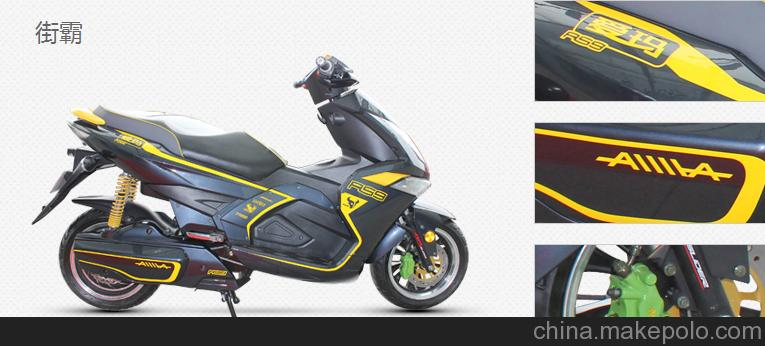电动车: (30, 52, 483, 314)
